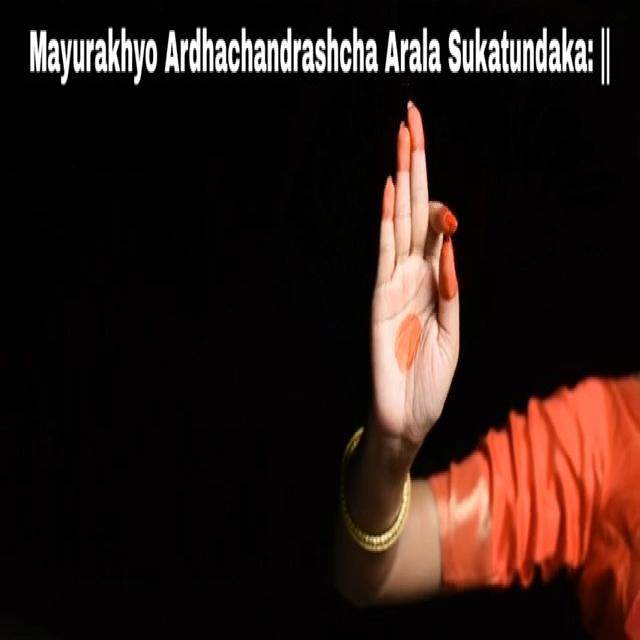Arala: (350, 95, 484, 436)
bangle: (332, 464, 418, 561)
text: (19, 26, 618, 91)
